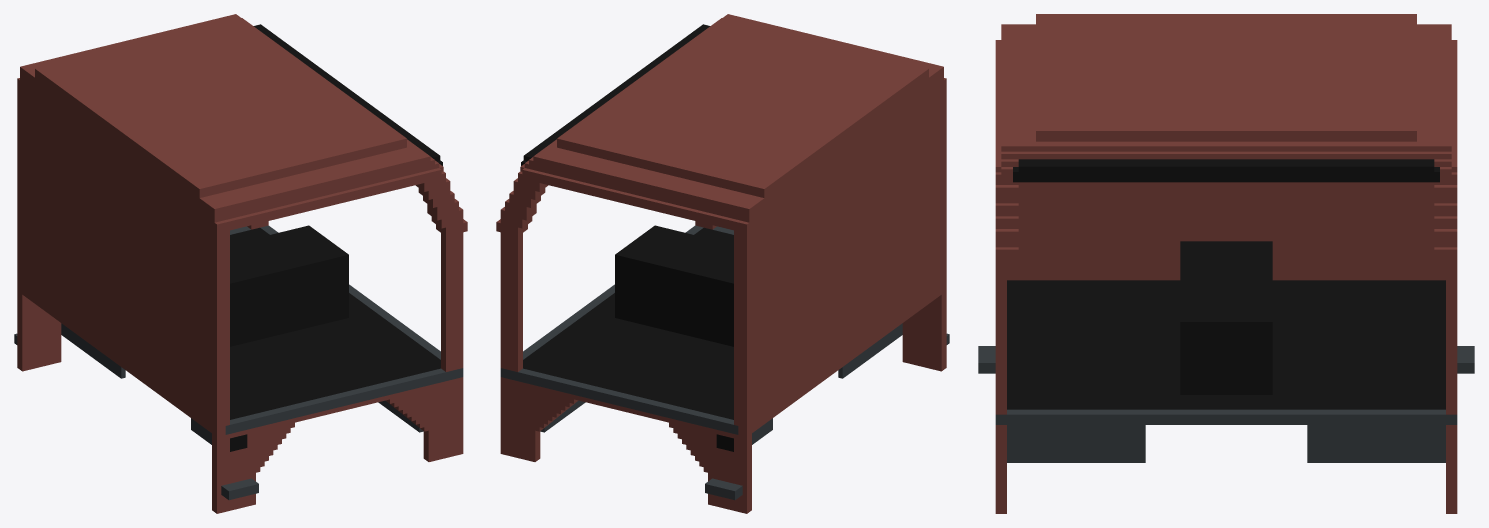
Rendered from car_transporter_cab.glb.
The picture shows the model from 3 angles, left to right: view 1: azimuth 30°, elevation 25°; view 2: azimuth 150°, elevation 25°; view 3: azimuth 270°, elevation 25°; orthographic projection. The views are drawn at different scales.
Visible parts, largest first — view 1: body:compound; view 2: body:compound; view 3: body:compound.
Part boxes in pixels (bbox=[...]): body:compound: bbox=[14, 14, 467, 513]; body:compound: bbox=[496, 14, 949, 513]; body:compound: bbox=[978, 14, 1474, 513].
Size of the model in its own units: 1.81 by 2.16 by 2.69.
